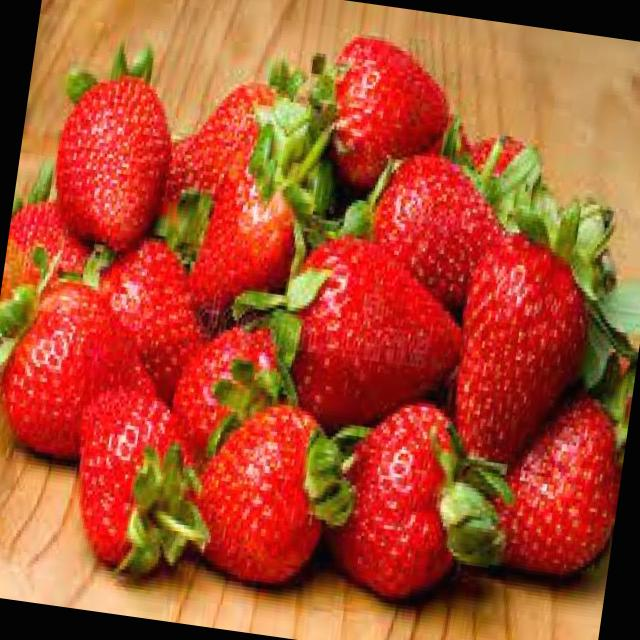Strawberry: (316, 388, 524, 614), (272, 223, 475, 442), (440, 223, 602, 474), (182, 390, 365, 592), (0, 271, 182, 471), (58, 377, 228, 584), (44, 32, 185, 256), (490, 381, 630, 584), (358, 143, 512, 314), (312, 27, 461, 200), (163, 306, 307, 472), (80, 230, 218, 402), (188, 153, 310, 324), (160, 63, 290, 217), (2, 192, 94, 294)
